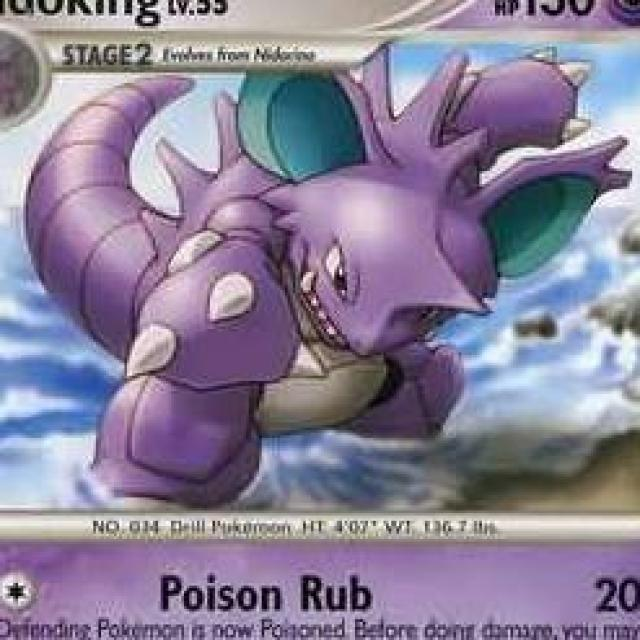Nidoking: (89, 62, 597, 496)
